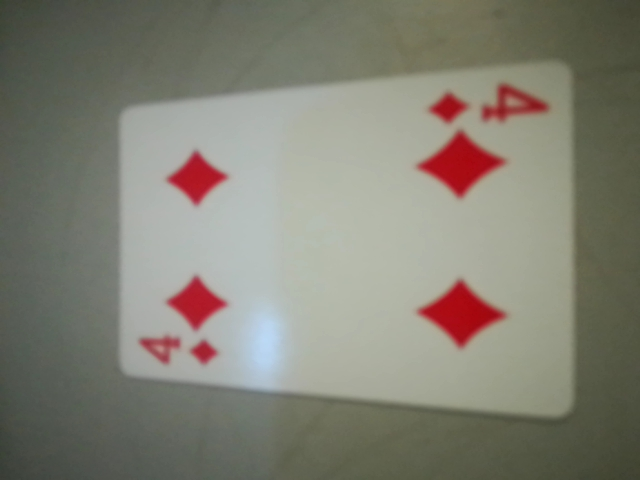fk 4: (407, 81, 564, 161)
